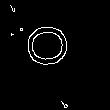O_E: (29, 27, 80, 73)
